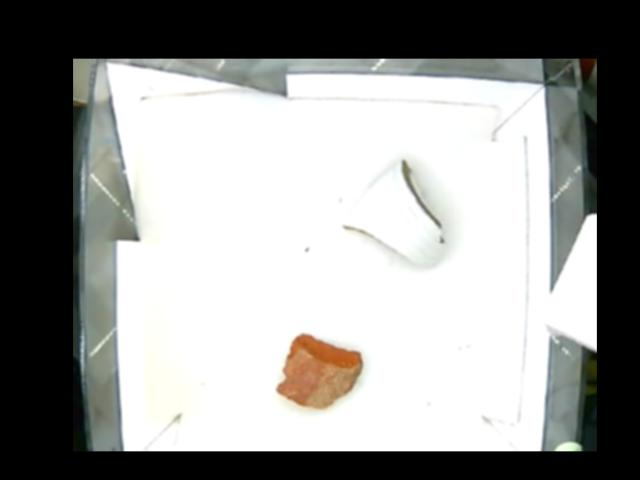Brisk: (276, 328, 363, 411)
China: (340, 161, 447, 267)
